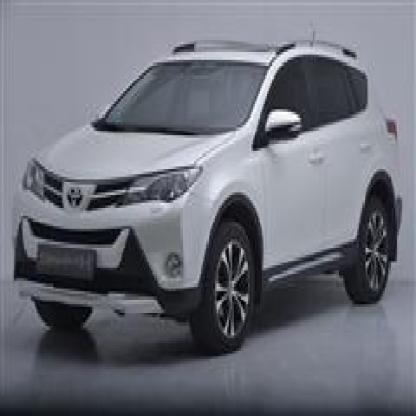Car: (2, 28, 407, 340)
